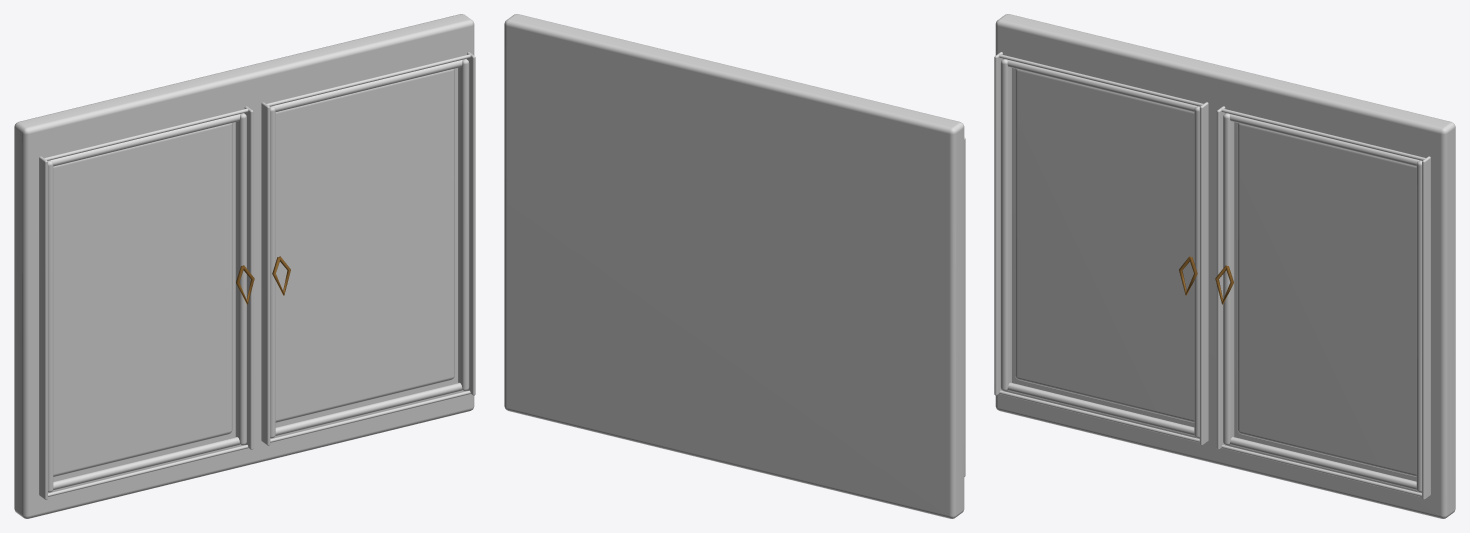
Rendered from DocumentLeaf.fbx.
The picture shows the model from 3 angles, left to right: view 1: azimuth 30°, elevation 25°; view 2: azimuth 150°, elevation 25°; view 3: azimuth 330°, elevation 25°; orthographic projection.
Visible parts, largest first — view 1: DocumentLeaf_Walnut, DocumentLeaf_Brass; view 2: DocumentLeaf_Walnut; view 3: DocumentLeaf_Walnut, DocumentLeaf_Brass.
Part boxes in pixels (<box>): DocumentLeaf_Walnut: <box>14,14,475,518</box>; DocumentLeaf_Brass: <box>236,256,290,304</box>; DocumentLeaf_Walnut: <box>504,14,965,518</box>; DocumentLeaf_Walnut: <box>994,14,1455,518</box>; DocumentLeaf_Brass: <box>1179,256,1233,304</box>.
Bounding box in the file's own units: 136 × 113 × 14.75.
